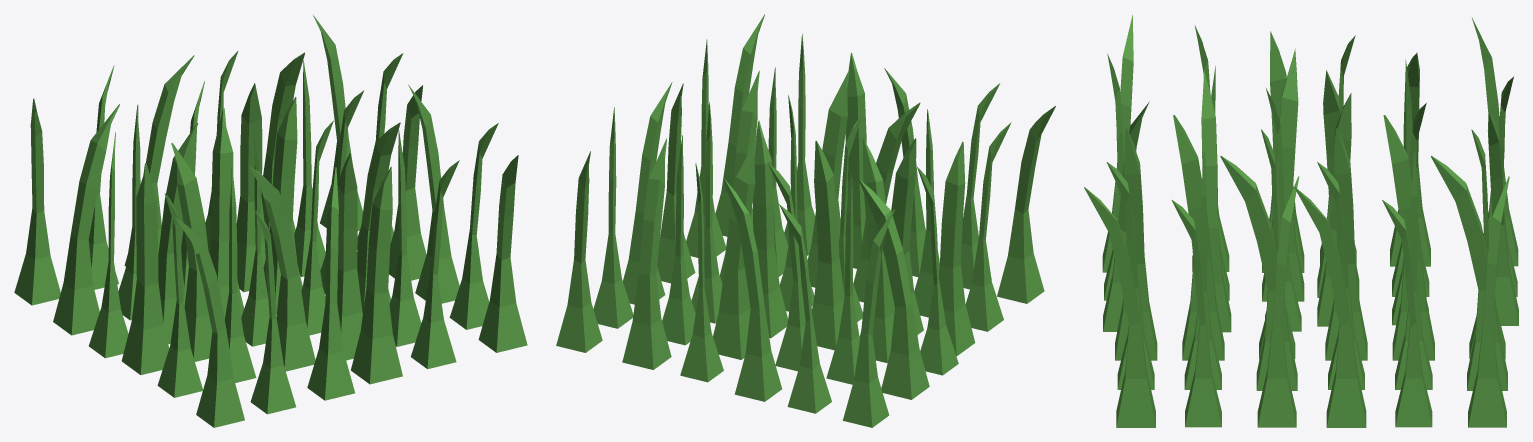
Rendered from grass.fbx.
The picture shows the model from 3 angles, left to right: view 1: azimuth 30°, elevation 25°; view 2: azimuth 150°, elevation 25°; view 3: azimuth 270°, elevation 25°; orthographic projection. The views are drawn at different scales.
Parts seen in each view (by area): view 1: Cube_7_3, Cube_7_4, Cube_3, Cube_3_5, Cube_8_4, Cube_8_3, Cube_5_4, Cube_1_3, Cube_5, Cube_1_2, Cube_1_4, Cube_7 (+24 smaller); view 2: Cube_3_2, Cube_3, Cube_7, Cube_8, Cube_1_2, Cube_7_4, Cube_8_4, Cube_5, Cube_7_2, Cube_5_2, Cube_2, Cube_6_4 (+24 smaller); view 3: Cube_8_2, Cube_8_3, Cube_5_3, Cube_5_2, Cube_3_3, Cube_3_2, Cube_1_2, Cube_1_3, Cube_2_2, Cube_2_4, Cube_7_3, Cube_7_2 (+23 smaller).
Part boxes in pixels (x1=…): Cube_7_3: x1=350, y1=166, x2=402, y2=384; Cube_7_4: x1=121, y1=163, x2=169, y2=374; Cube_3: x1=53, y1=104, x2=119, y2=335; Cube_3_5: x1=249, y1=166, x2=315, y2=371; Cube_8_4: x1=175, y1=217, x2=244, y2=427; Cube_8_3: x1=478, y1=155, x2=527, y2=352; Cube_5_4: x1=307, y1=167, x2=354, y2=400; Cube_1_3: x1=337, y1=153, x2=362, y2=360; Cube_5: x1=14, y1=98, x2=60, y2=305; Cube_1_2: x1=236, y1=83, x2=265, y2=292; Cube_1_4: x1=171, y1=143, x2=212, y2=361; Cube_7: x1=209, y1=108, x2=244, y2=318; Cube_3_2: x1=622, y1=138, x2=671, y2=369; Cube_3: x1=859, y1=179, x2=929, y2=399; Cube_7: x1=812, y1=141, x2=844, y2=350; Cube_8: x1=723, y1=178, x2=782, y2=401; Cube_1_2: x1=713, y1=138, x2=756, y2=359; Cube_7_4: x1=939, y1=141, x2=975, y2=356; Cube_8_4: x1=997, y1=106, x2=1055, y2=303; Cube_5: x1=843, y1=209, x2=894, y2=427; Cube_7_2: x1=748, y1=120, x2=787, y2=338; Cube_5_2: x1=556, y1=151, x2=602, y2=352; Cube_2: x1=779, y1=204, x2=831, y2=413; Cube_6_4: x1=965, y1=122, x2=1011, y2=331; Cube_8_2: x1=1294, y1=187, x2=1366, y2=427; Cube_8_3: x1=1084, y1=187, x2=1155, y2=427; Cube_5_3: x1=1257, y1=176, x2=1299, y2=427; Cube_5_2: x1=1468, y1=176, x2=1509, y2=427; Cube_3_3: x1=1220, y1=156, x2=1297, y2=390; Cube_3_2: x1=1431, y1=156, x2=1507, y2=390; Cube_1_2: x1=1383, y1=115, x2=1434, y2=360; Cube_1_3: x1=1173, y1=115, x2=1224, y2=360; Cube_2_2: x1=1382, y1=200, x2=1432, y2=427; Cube_2_4: x1=1171, y1=200, x2=1221, y2=427; Cube_7_3: x1=1115, y1=128, x2=1157, y2=360; Cube_7_2: x1=1325, y1=128, x2=1367, y2=360.
Bounding box in the file's own units: 169 × 98.5 × 167.
